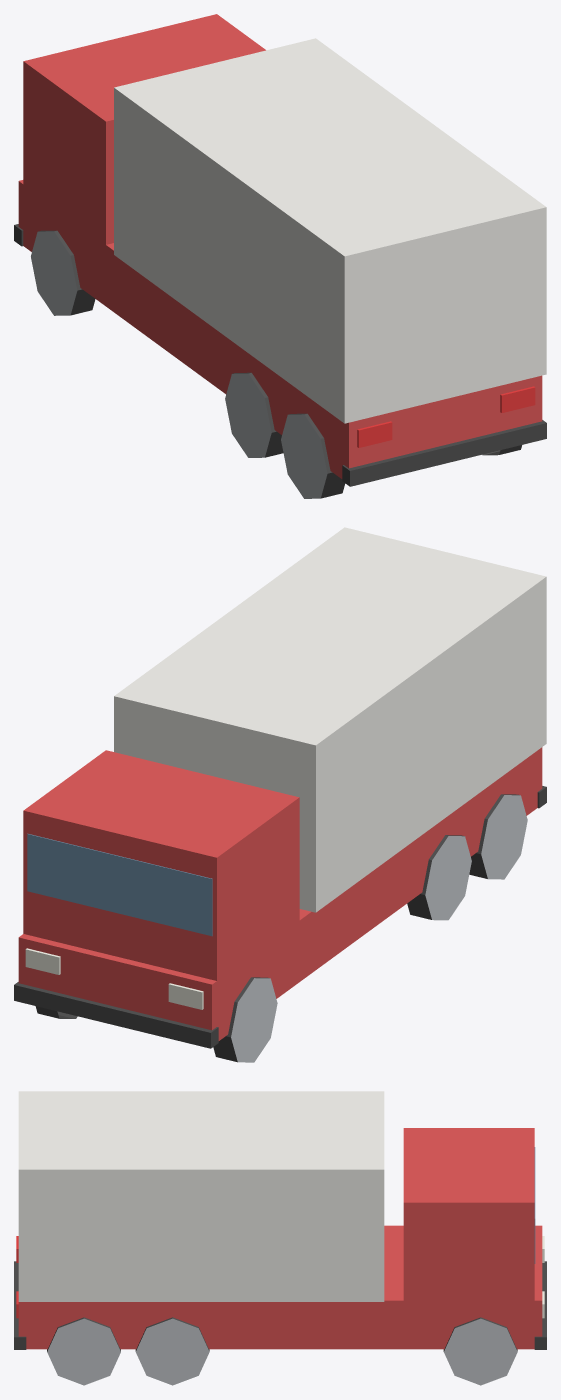
The model's file is car_truck.glb.
3 views of the same model, one above another, from view 1: azimuth 30°, elevation 25°; view 2: azimuth 150°, elevation 25°; view 3: azimuth 270°, elevation 25° (orthographic). The views are drawn at different scales.
Parts seen in each view (by area): view 1: car_truck; view 2: car_truck; view 3: car_truck.
Part boxes in pixels (<box>): car_truck: <box>14,14,546,498</box>; car_truck: <box>14,527,546,1062</box>; car_truck: <box>14,1091,546,1385</box>.
Size of the model in its own units: 2.4 by 3.1 by 6.92.
